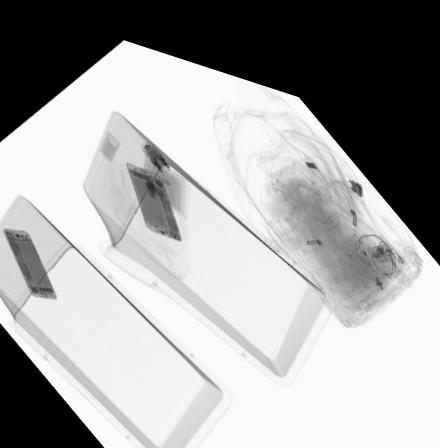Lighter: (376, 208, 404, 239)
